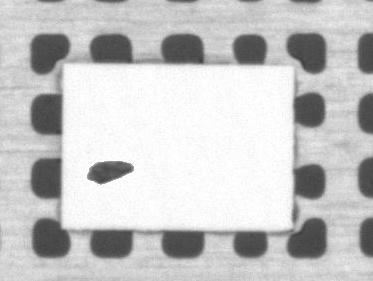DIE_INK: (82, 159, 133, 187)
